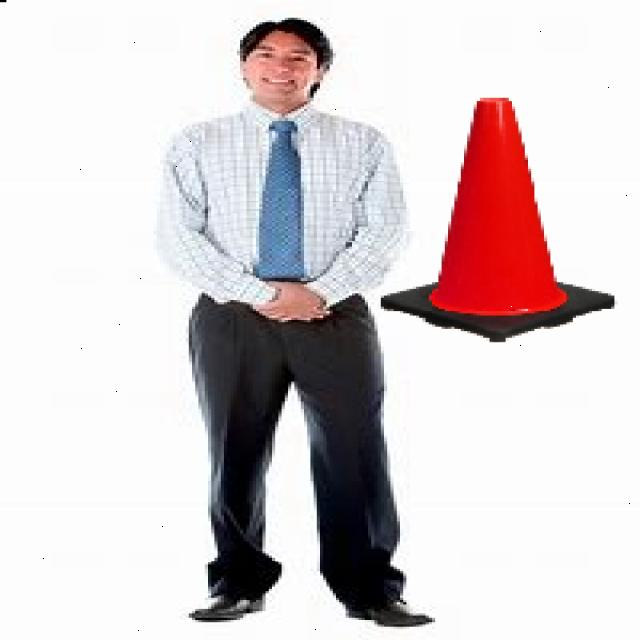traffic cone: (372, 91, 624, 349)
